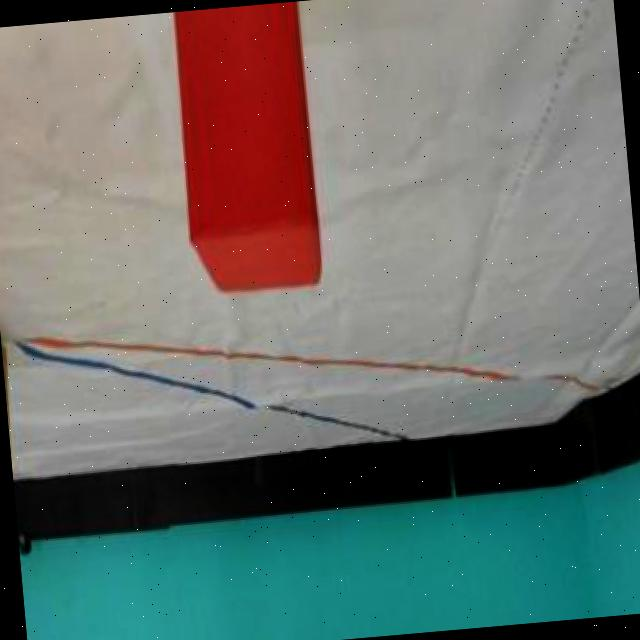redbox: (181, 1, 325, 290)
